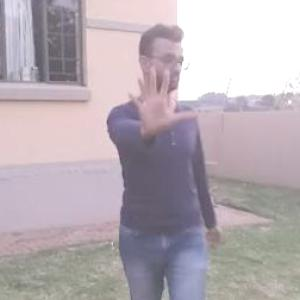follow_hand: (122, 59, 202, 134)
